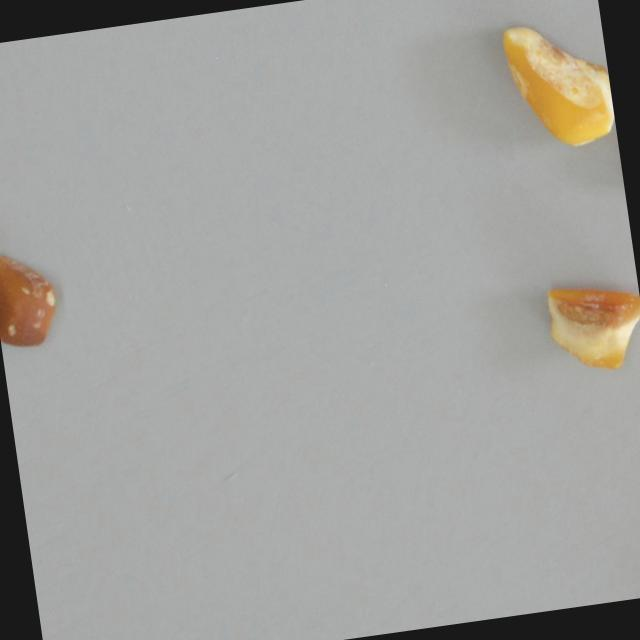dañado: (497, 11, 618, 156), (537, 273, 640, 381), (0, 242, 67, 352)
